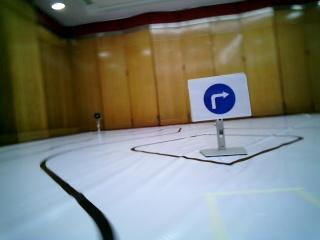right: (188, 81, 244, 116)
